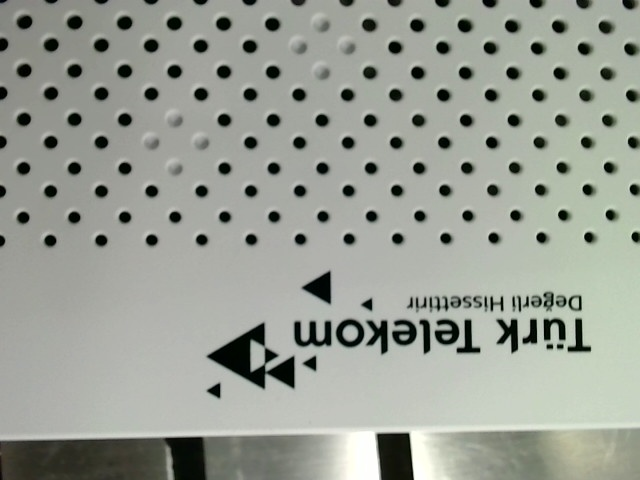AQ_TURKTelekom: (194, 264, 593, 398)
